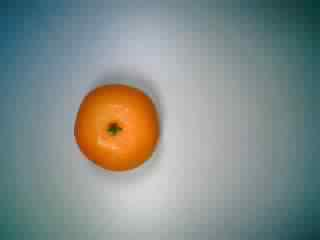orange: (71, 77, 166, 175)
